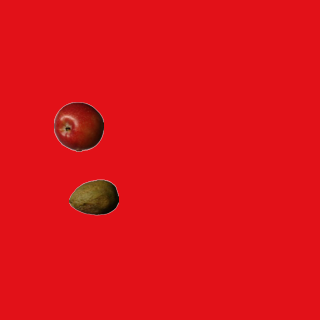Apple Braeburn: (53, 101, 103, 151)
Papaya: (68, 172, 118, 222)
